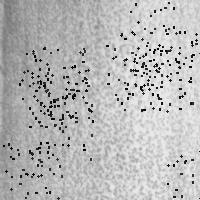pitted_surface: (63, 1, 199, 200), (31, 66, 91, 126), (124, 51, 183, 110), (26, 47, 85, 105), (120, 2, 178, 60), (132, 46, 192, 102), (36, 101, 92, 158), (3, 143, 62, 197), (19, 71, 75, 127), (106, 45, 155, 102), (157, 26, 200, 82), (167, 150, 200, 199)
